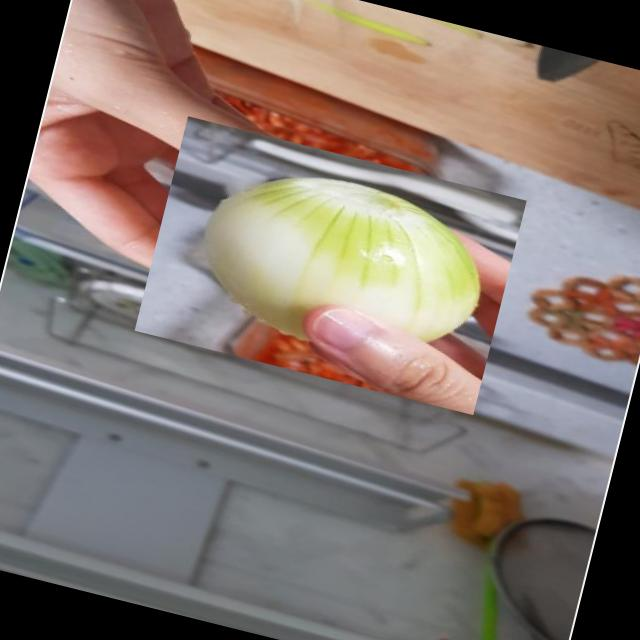Onion: (134, 116, 526, 416)
